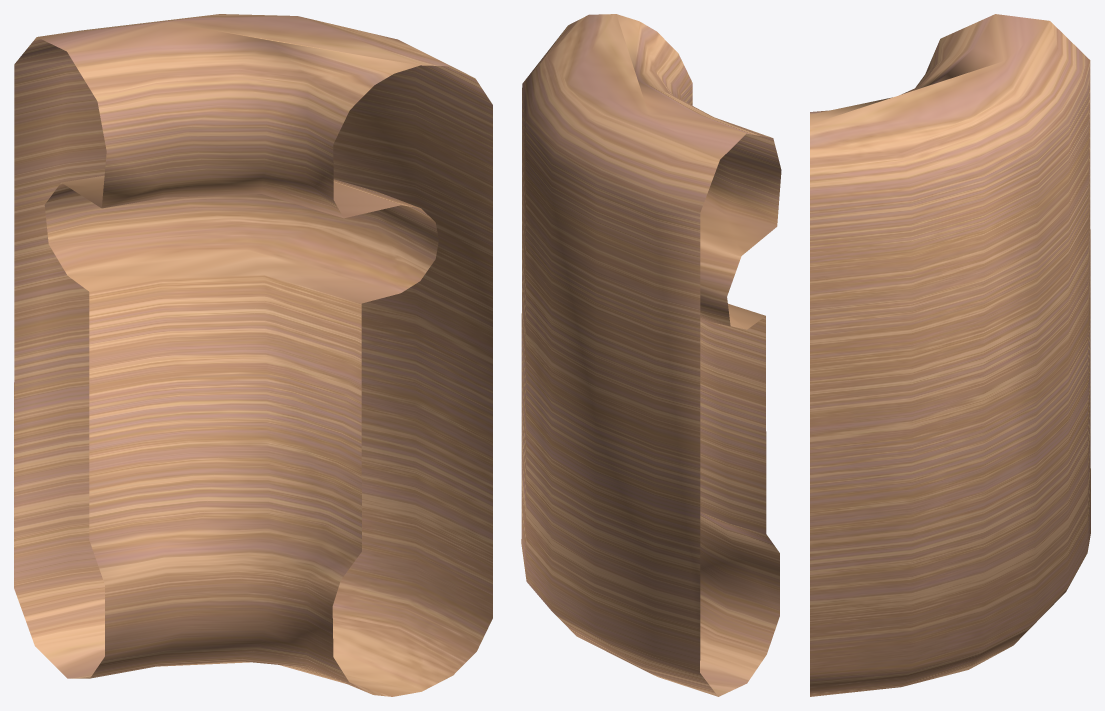
Rendered from hospital_handrail_end2.dae.
3 renders of one model, left to right at view 1: azimuth 30°, elevation 25°; view 2: azimuth 150°, elevation 25°; view 3: azimuth 270°, elevation 25°, orthographic. The views are drawn at different scales.
Parts seen in each view (by area): view 1: Handle Curve.002; view 2: Handle Curve.002; view 3: Handle Curve.002.
Boxes of the visible parts, x1,y1,x2,y2 form: Handle Curve.002: (14,14,492,696); Handle Curve.002: (521,14,781,696); Handle Curve.002: (810,14,1090,696).
Bounding box in the file's own units: 0.0756 × 0.063 × 0.14.
